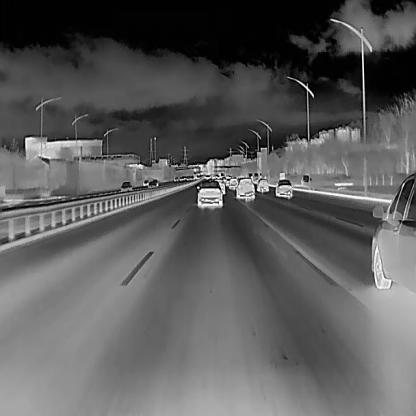car: (369, 171, 415, 293), (194, 179, 224, 206), (235, 178, 255, 201), (274, 178, 293, 198), (212, 178, 225, 195), (118, 180, 132, 194), (256, 177, 269, 192), (300, 174, 312, 186), (228, 178, 238, 190), (140, 178, 149, 186), (148, 181, 157, 189), (224, 177, 232, 186), (172, 174, 178, 182)
